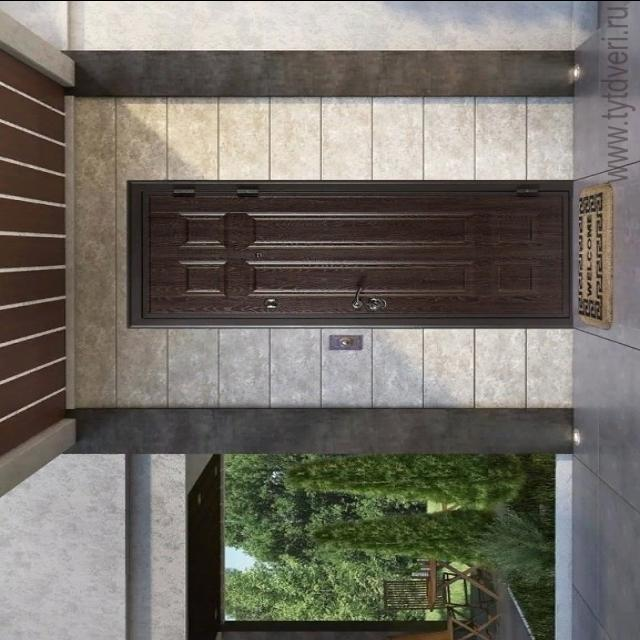close: (126, 180, 578, 324)
